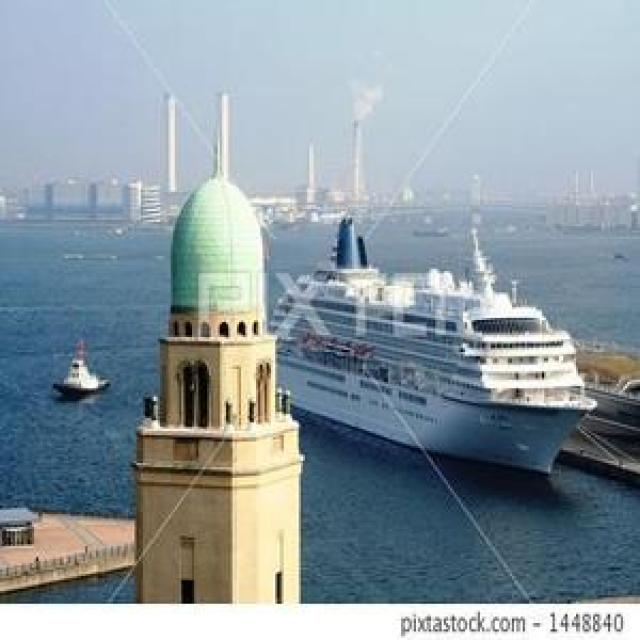houseboat: (51, 338, 107, 396)
passenger ship: (273, 218, 592, 477)
